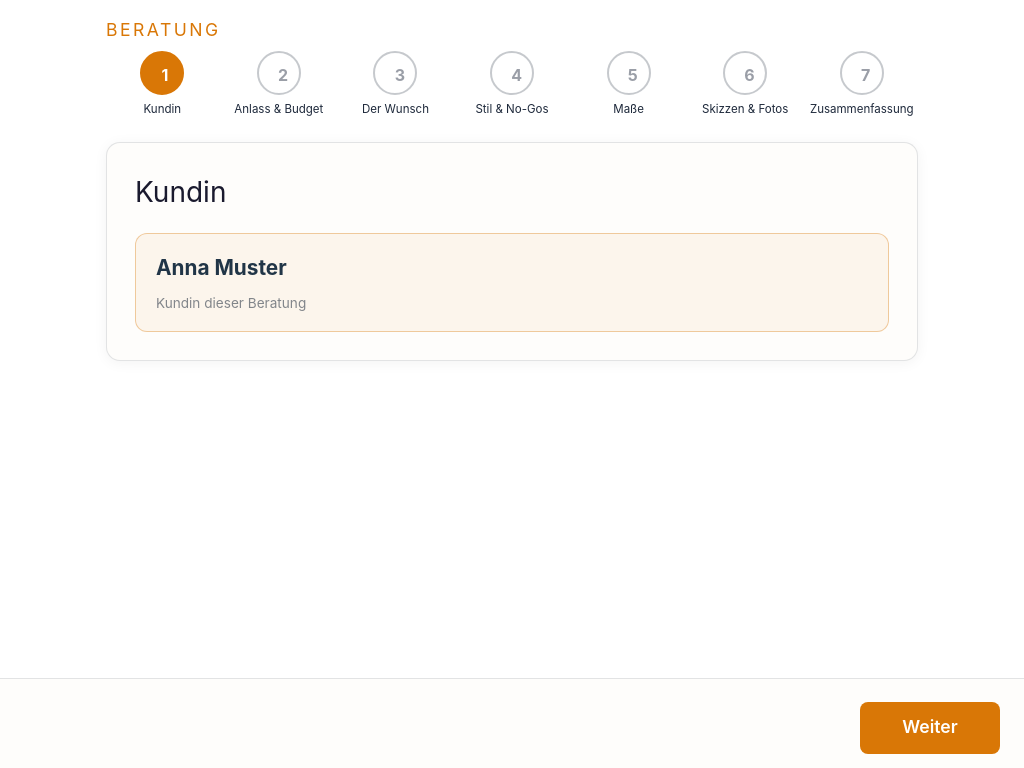
Test case: ConsultationWizardPage › shows Weiter for a resumed draft viewed at step 1 and advances to step 2
Expected: the heading "Kundin" is shown, [135,175,226,209]
Click the button "Weiter". click: (930,728)
box: [860,702,1000,754]
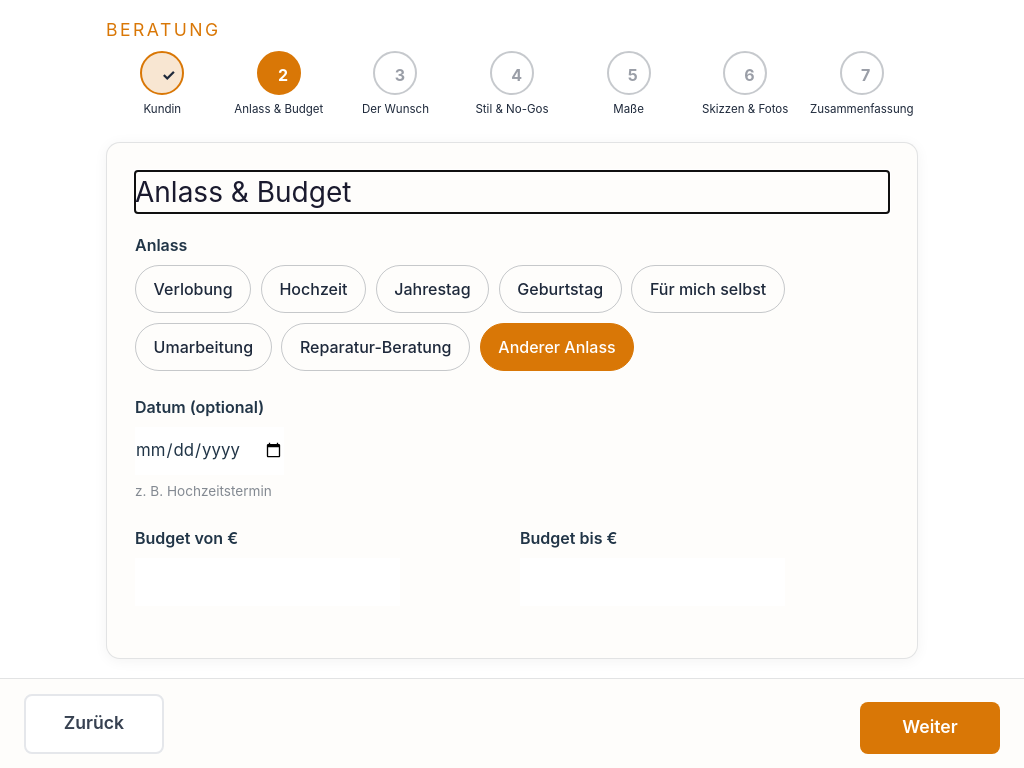
Result: the heading "Anlass & Budget" is shown at [135,175,351,209]
